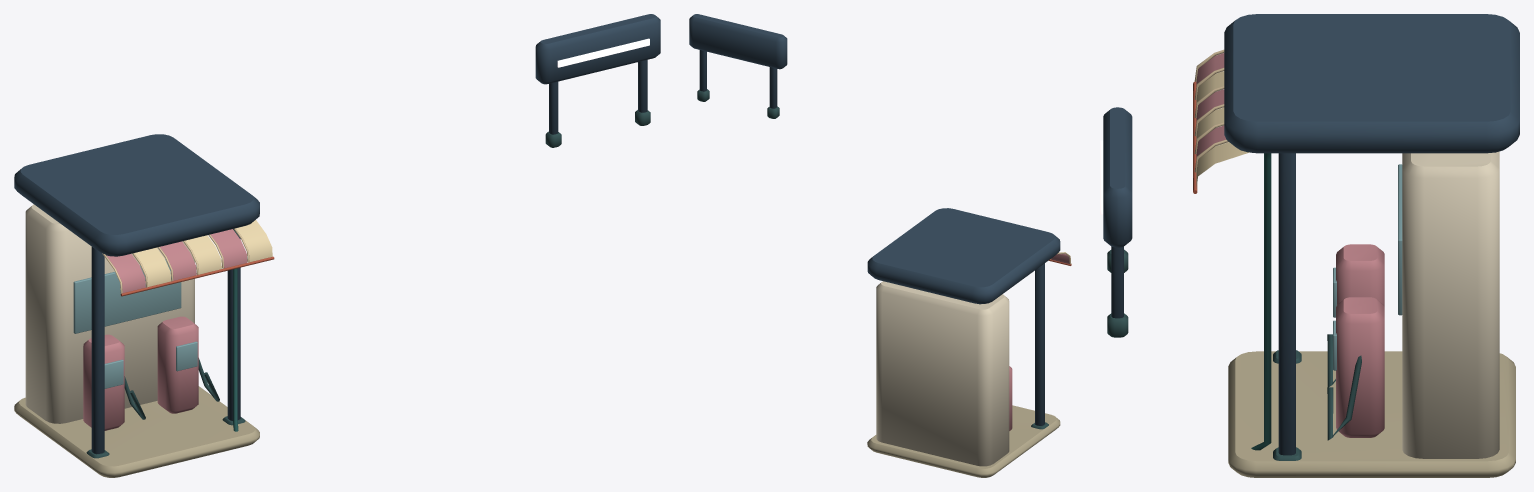
File: luxury_fuel_4.glb
The picture shows the model from 3 angles, left to right: view 1: azimuth 30°, elevation 25°; view 2: azimuth 150°, elevation 25°; view 3: azimuth 270°, elevation 25°; orthographic projection. The views are drawn at different scales.
Visible parts, largest first — view 1: LuxuryFuel4; view 2: LuxuryFuel4; view 3: LuxuryFuel4.
Boxes of the visible parts, x1,y1,x2,y2 form: LuxuryFuel4: (14,14,660,477); LuxuryFuel4: (689,14,1071,477); LuxuryFuel4: (1100,14,1519,477).
Size of the model in its own units: 7.52 by 5.16 by 3.62.
